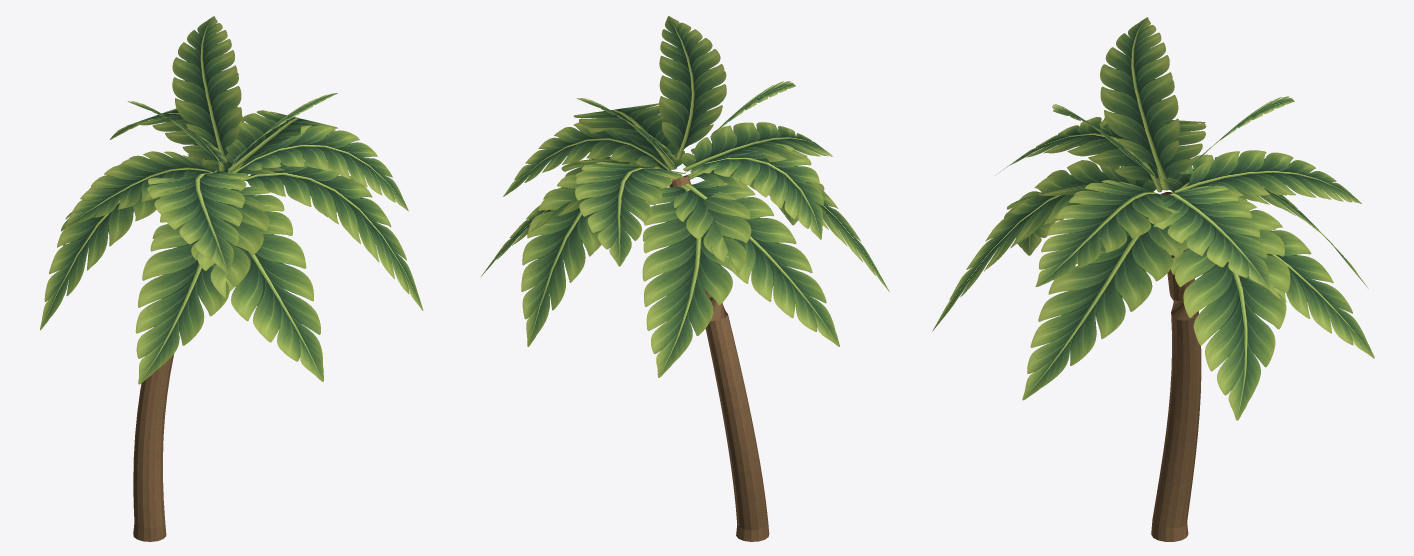
File: palm2_a_liked_frond_v1.glb
3 views of the same model, side by side, from view 1: azimuth 30°, elevation 25°; view 2: azimuth 150°, elevation 25°; view 3: azimuth 270°, elevation 25° (orthographic). The views are drawn at different scales.
Parts seen in each view (by area): view 1: palm2_a; view 2: palm2_a; view 3: palm2_a.
Boxes of the visible parts, box(x1,y1,x2,y2) form: palm2_a: box(40, 16, 423, 541); palm2_a: box(481, 16, 889, 541); palm2_a: box(932, 17, 1374, 541).
Size of the model in its own units: 3.81 by 4.43 by 3.81.
Materials: 2 (2 with a texture image).
